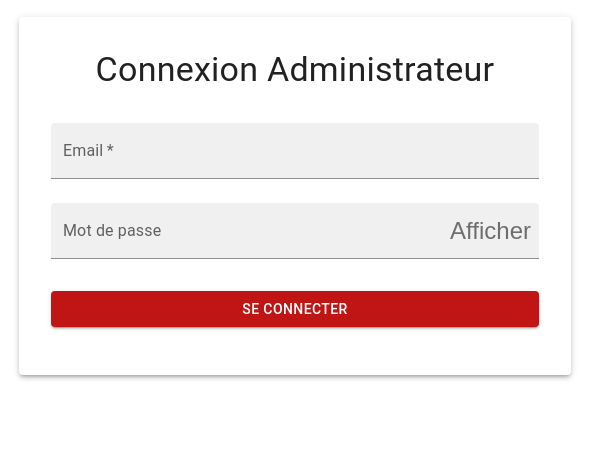
Test: ConnectionPage Component › enregistre le token dans le localStorage lors d'une connexion réussie
The image size is (591, 457).
Type "admin@example.com" into the field labelled "Email *" at point(295, 151), box [51,123,539,179]
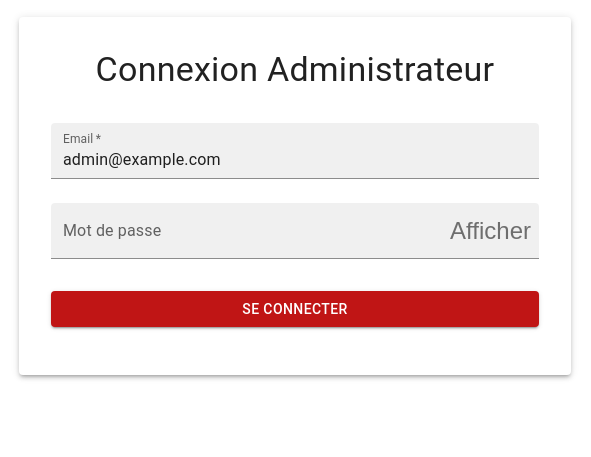
Type "password123" into the password field labelled "Mot de passe" at point(243, 231), box [51,203,434,259]
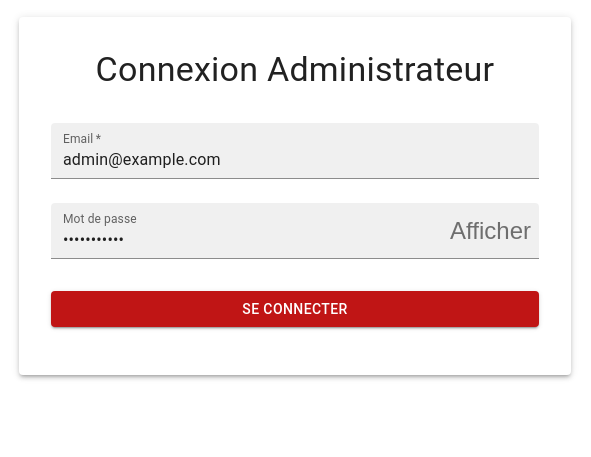
Click the button "Se connecter" at point(295, 309), box [51,291,539,328]
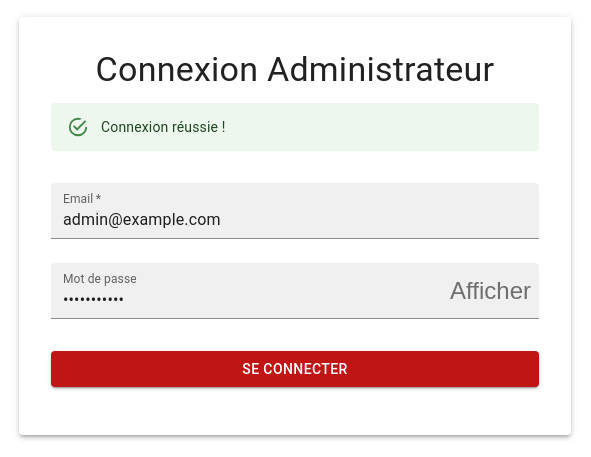
Expected: the text "Connexion réussie !" is shown, [101,119,226,135]
